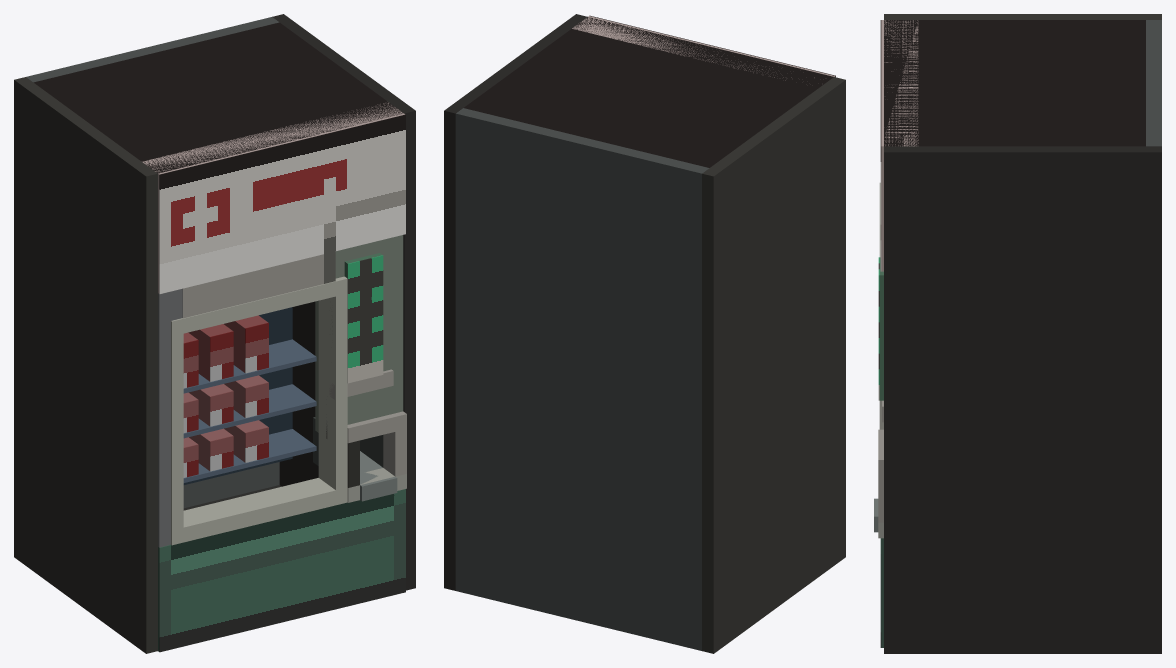
Rendered from CMU3DVendorBloodFieldCloud.glb.
3 views of the same model, side by side, from view 1: azimuth 30°, elevation 25°; view 2: azimuth 150°, elevation 25°; view 3: azimuth 270°, elevation 25° (orthographic). The views are drawn at different scales.
Visible parts, largest first — view 1: left full-depth cabinet wall, roof, cream header with original red mark original face, green lower service panel original face, right full-depth cabinet wall, right control housing, blood display silver surround right, blood display silver surround bottom, cream shoulder above display original face, green control strip original face, solid rear wall, cream header with original red mark (+26 smaller); view 2: solid rear wall, left full-depth cabinet wall, roof, right full-depth cabinet wall, cream header with original red mark; view 3: right full-depth cabinet wall, roof, cream header with original red mark, solid rear wall, left full-depth cabinet wall, green control strip, cream header with original red mark original face.
Boxes of the visible parts, x1=… form: left full-depth cabinet wall: x1=14, y1=77, x2=157, y2=653; roof: x1=33, y1=22, x2=403, y2=173; cream header with original red mark original face: x1=159, y1=114, x2=405, y2=293; green lower service panel original face: x1=159, y1=489, x2=405, y2=652; right full-depth cabinet wall: x1=272, y1=14, x2=415, y2=590; right control housing: x1=315, y1=235, x2=403, y2=432; blood display silver surround right: x1=318, y1=293, x2=347, y2=490; blood display silver surround bottom: x1=171, y1=478, x2=347, y2=545; cream shoulder above display original face: x1=182, y1=251, x2=335, y2=318; green control strip original face: x1=347, y1=255, x2=383, y2=383; solid rear wall: x1=26, y1=17, x2=279, y2=508; cream header with original red mark: x1=142, y1=102, x2=404, y2=293; solid rear wall: x1=455, y1=108, x2=709, y2=650; left full-depth cabinet wall: x1=702, y1=77, x2=845, y2=653; roof: x1=464, y1=17, x2=833, y2=167; right full-depth cabinet wall: x1=444, y1=14, x2=587, y2=590; cream header with original red mark: x1=572, y1=16, x2=835, y2=80; right full-depth cabinet wall: x1=884, y1=146, x2=1161, y2=653; roof: x1=884, y1=20, x2=1145, y2=146; cream header with original red mark: x1=881, y1=20, x2=918, y2=271; solid rear wall: x1=1146, y1=20, x2=1161, y2=146; left full-depth cabinet wall: x1=884, y1=14, x2=1161, y2=19; green control strip: x1=879, y1=257, x2=883, y2=400; cream header with original red mark original face: x1=880, y1=20, x2=881, y2=271.
Size of the model in its own units: 0.7188 by 1.22 by 0.632.
29 materials, 6 textured.
